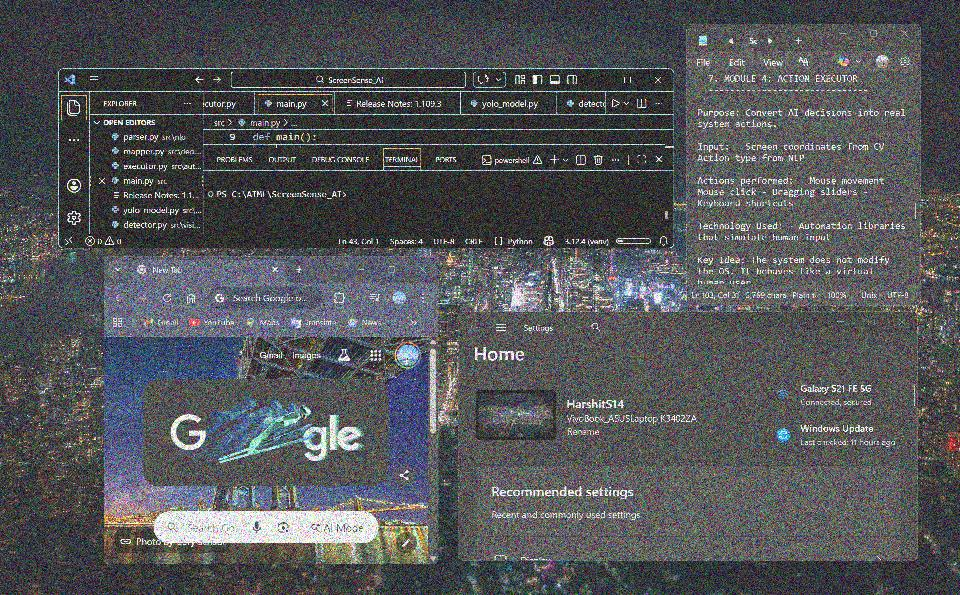close_button: (411, 259, 435, 282), (895, 25, 915, 47), (891, 314, 914, 331), (648, 71, 669, 89)
maximize_button: (379, 257, 406, 281), (863, 25, 886, 44), (617, 71, 640, 89), (861, 313, 883, 328)
minimize_button: (345, 258, 374, 281), (830, 24, 856, 48), (828, 313, 853, 334), (587, 70, 610, 92)
